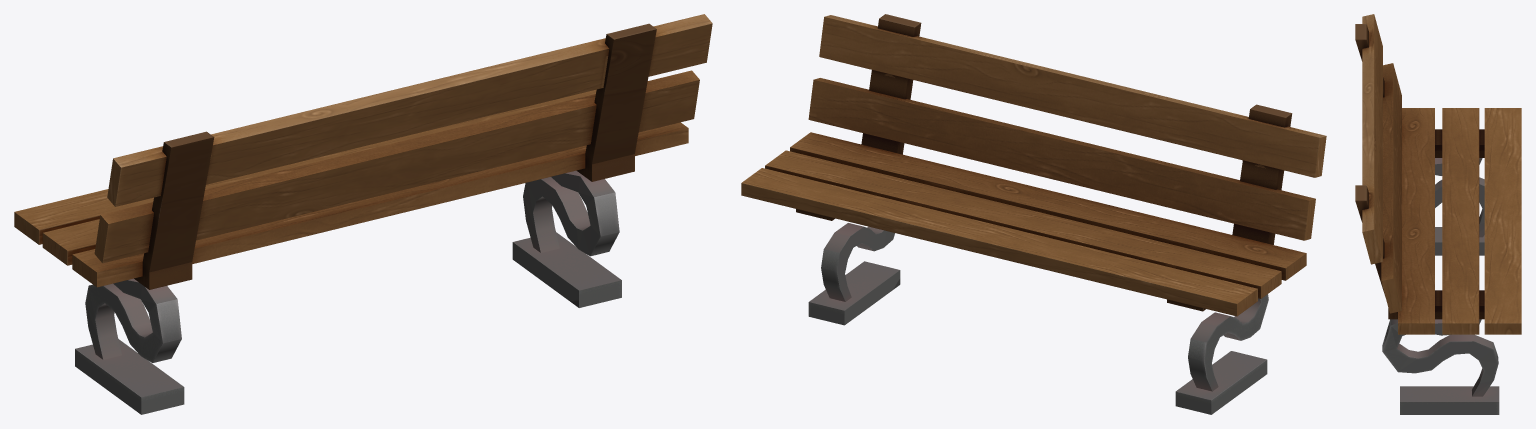
Rendered from TownChair_A.fbx.
3 renders of one model, left to right at view 1: azimuth 30°, elevation 25°; view 2: azimuth 150°, elevation 25°; view 3: azimuth 270°, elevation 25°, orthographic. The views are drawn at different scales.
Visible parts, largest first — view 1: TownChair_A; view 2: TownChair_A; view 3: TownChair_A.
Boxes of the visible parts, x1,y1,x2,y2 form: TownChair_A: (14, 14, 712, 414); TownChair_A: (741, 14, 1326, 414); TownChair_A: (1355, 14, 1521, 414).
Size of the model in its own units: 336 by 157 by 110.
Materials: 1 (1 with a texture image).
